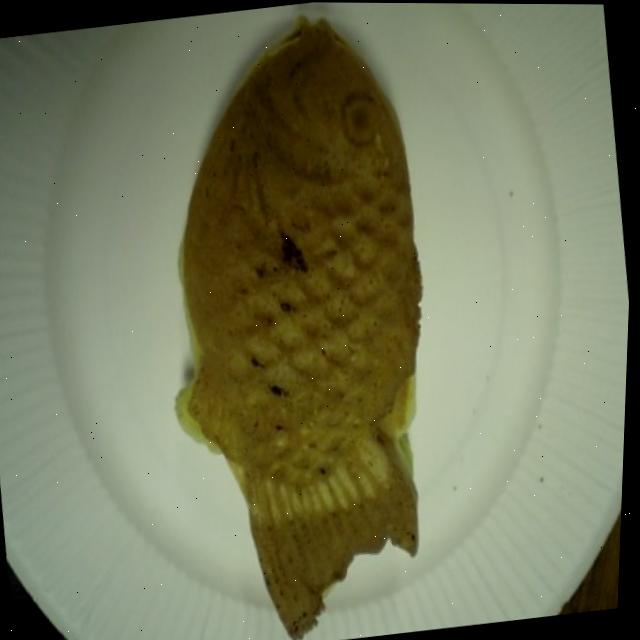熟制海鲜: (109, 1, 492, 640)
